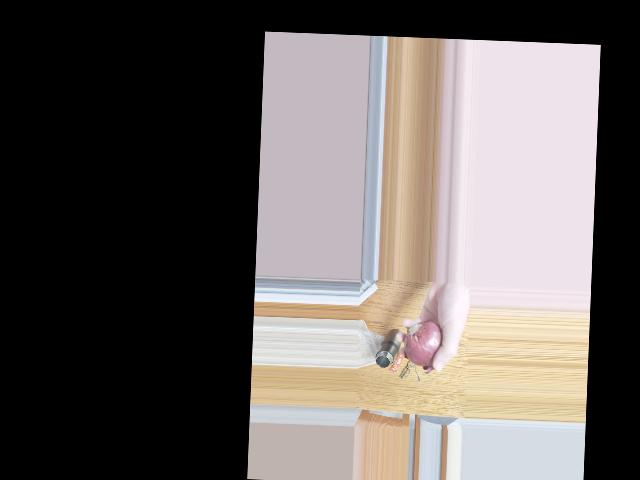onion: (409, 322, 448, 362)
